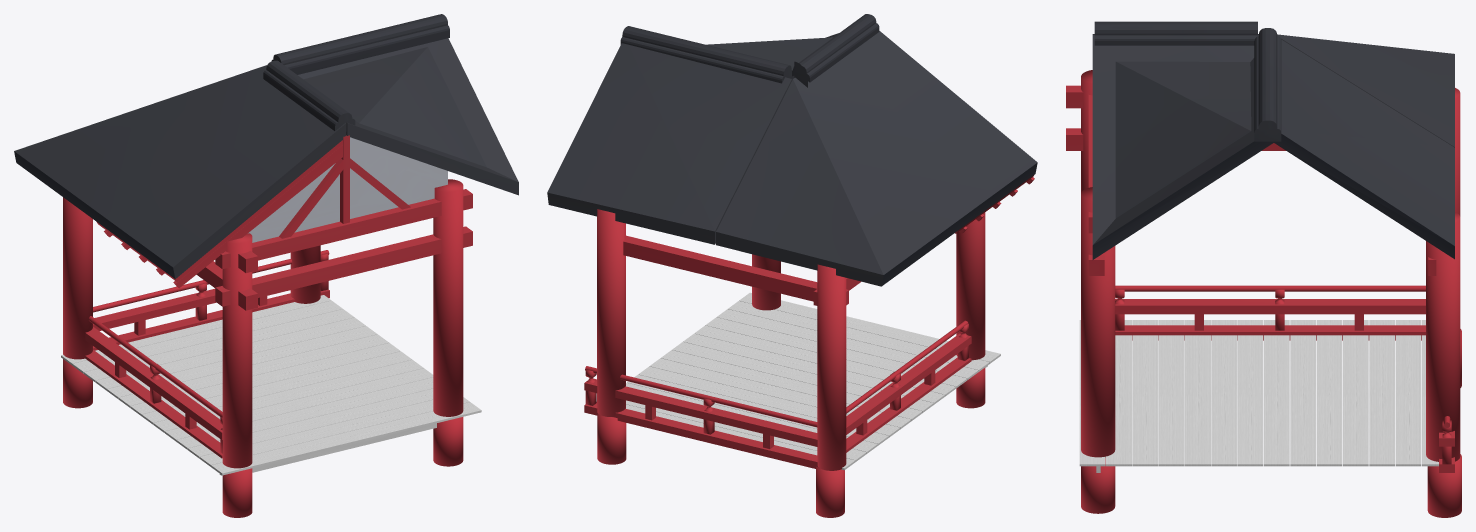
File: M_kairou_corner.obj
The picture shows the model from 3 angles, left to right: view 1: azimuth 30°, elevation 25°; view 2: azimuth 150°, elevation 25°; view 3: azimuth 270°, elevation 25°; orthographic projection. The views are drawn at different scales.
Visible parts, largest first — view 1: 立方体.104; view 2: 立方体.104; view 3: 立方体.104.
Part boxes in pixels (x1=…): 立方体.104: x1=14, y1=14, x2=518, y2=517; 立方体.104: x1=547, y1=14, x2=1037, y2=517; 立方体.104: x1=1066, y1=21, x2=1461, y2=517.
Bounding box in the file's own units: 8.68 × 9.06 × 7.51.
2 materials, 2 textured.
